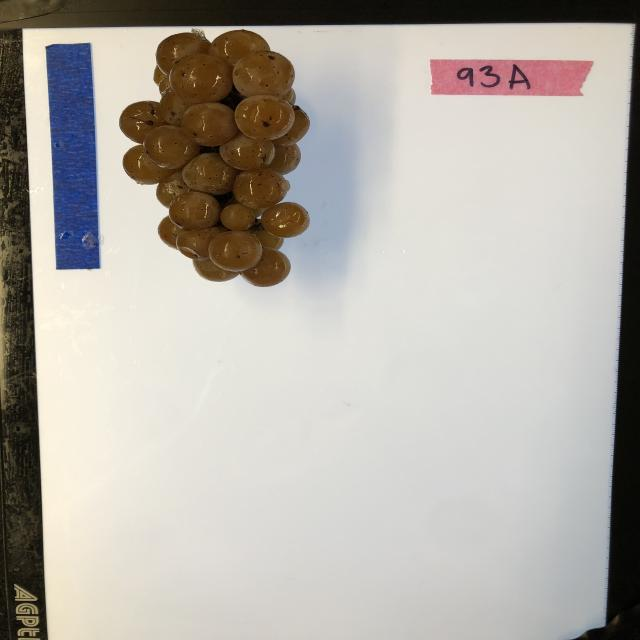grape_cluster: (118, 30, 315, 288)
index: (428, 58, 596, 98)
measure_label: (45, 42, 102, 270)
